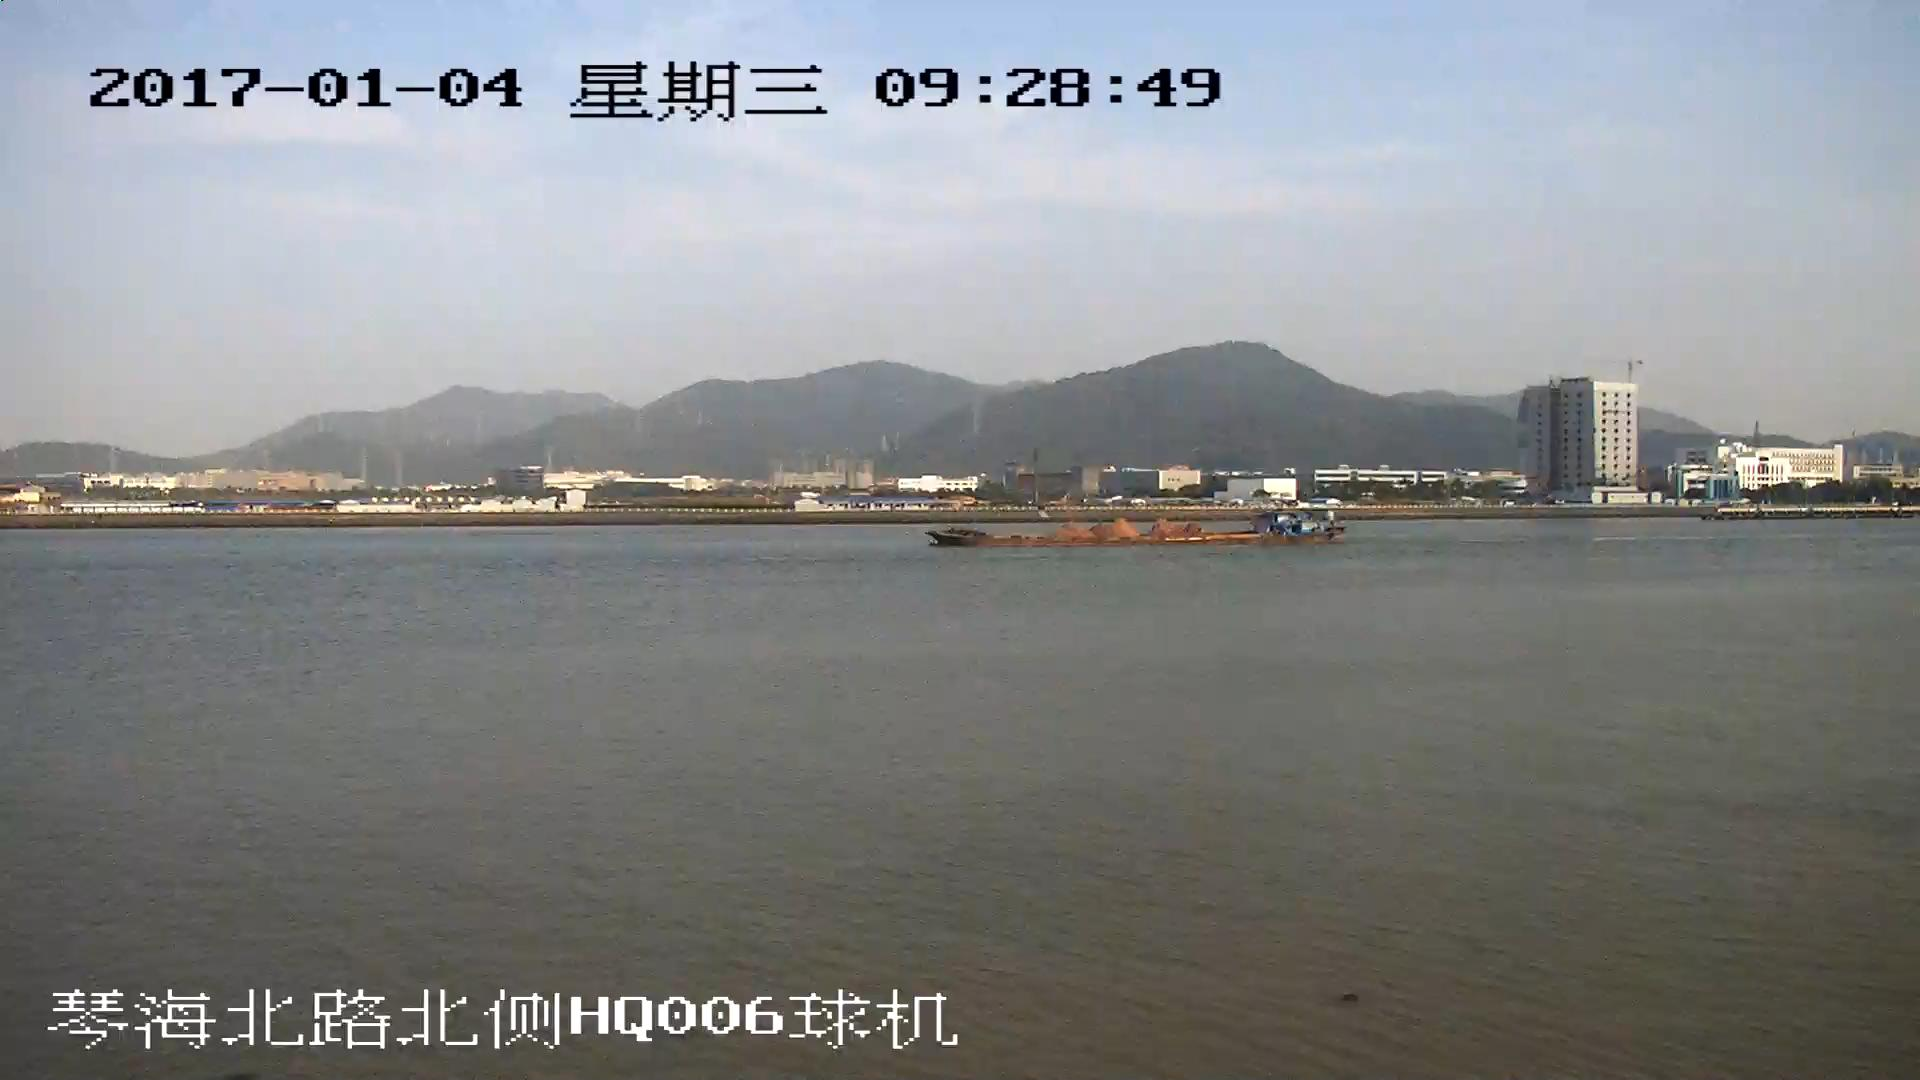ore carrier: (934, 511, 1342, 543)
